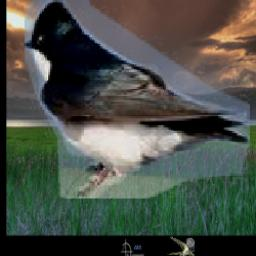Swallow: (25, 0, 250, 198), (168, 237, 196, 256)
